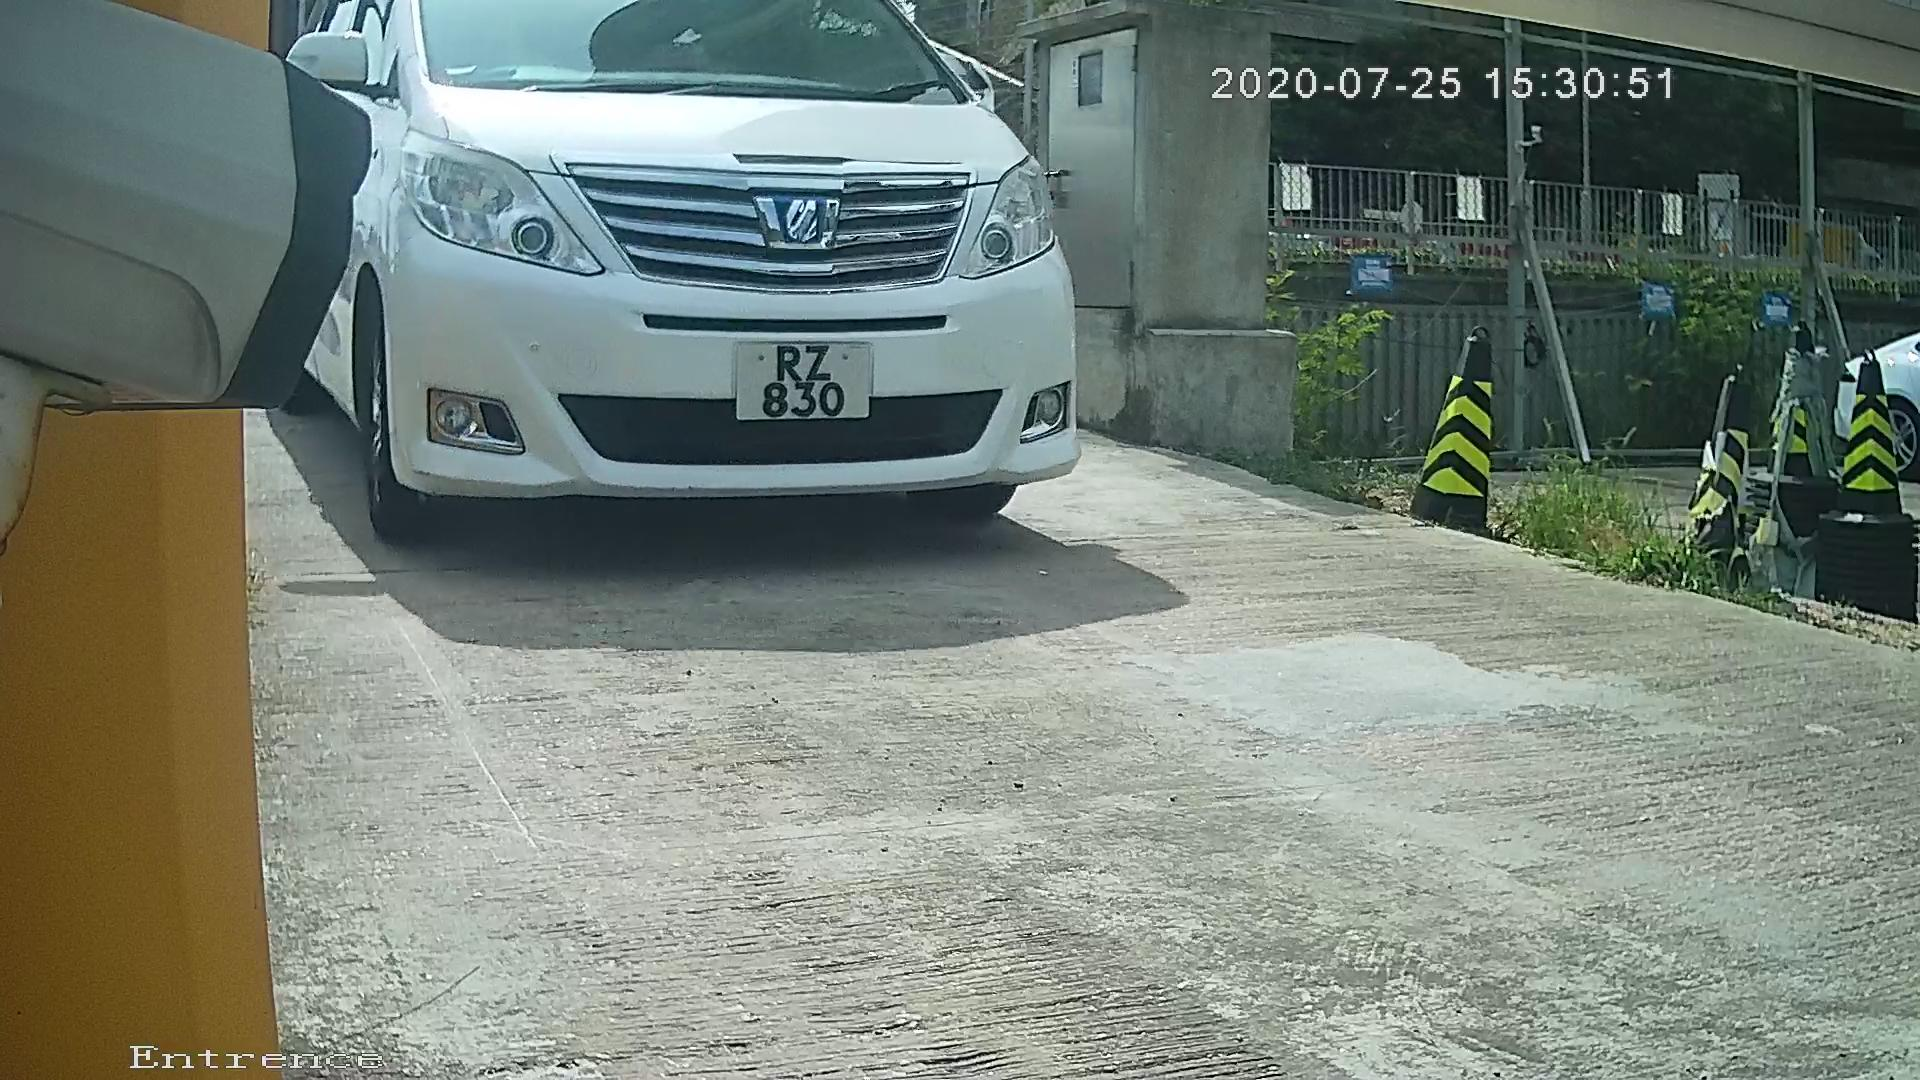License Plate: (703, 319, 892, 439)
